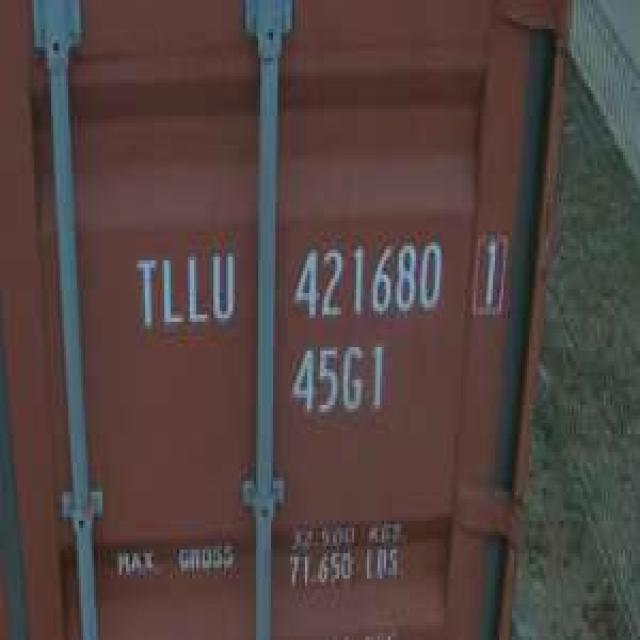dv: (469, 224, 510, 322)
owner: (128, 239, 241, 336)
serial: (286, 228, 446, 325)
size: (286, 336, 390, 427)
